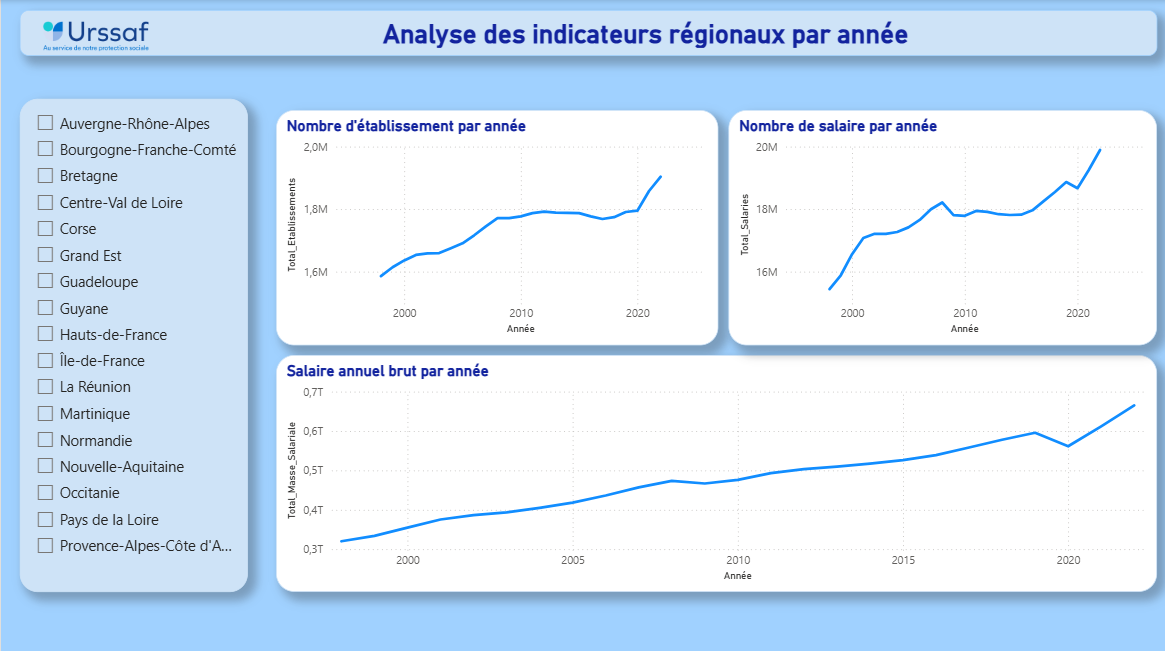

This screenshot's page, from the dashboard's own definition file:
{"tool":"powerbi","page":{"name":"Vision par région","canvas":[1280,720],"ordinal":1},"visuals":[{"type":"textbox","box":[20.6,11,1248.7,50.8],"z":0},{"type":"image","box":[35.7,0,137.2,79.6],"z":1000},{"type":"slicer","fields":{"Values":["Table.region"]},"box":[20,108.6,250,541.4],"z":2000},{"type":"lineChart","title":"Nombre d''établissement par année","fields":{"Category":["Table.annee"],"Y":["Table.Total_Etablissements"]},"box":[301.4,121.4,485.7,258.6],"z":3000},{"type":"lineChart","title":"Salaire annuel brut par année","fields":{"Y":["Table.Total_Masse_Salariale"],"Category":["Table.annee"]},"box":[301.4,390,967.1,260],"z":4000},{"type":"lineChart","title":"Nombre de salaire par année","fields":{"Y":["Table.Total_Salaries"],"Category":["Table.annee"]},"box":[798.6,121.4,470,258.6],"z":5000}]}

Visuals, with their boxes in screenshot pixels (x1, y1, x2, y2), scaled from the page's 1280x720 canvas onto the 1165x651 screenshot:
textbox: [x1=19, y1=10, x2=1155, y2=56]
image: [x1=32, y1=0, x2=157, y2=72]
slicer - Table.region: [x1=18, y1=98, x2=246, y2=588]
"Nombre d''établissement par année" lineChart: [x1=274, y1=110, x2=716, y2=344]
"Salaire annuel brut par année" lineChart: [x1=274, y1=353, x2=1155, y2=588]
"Nombre de salaire par année" lineChart: [x1=727, y1=110, x2=1155, y2=344]
